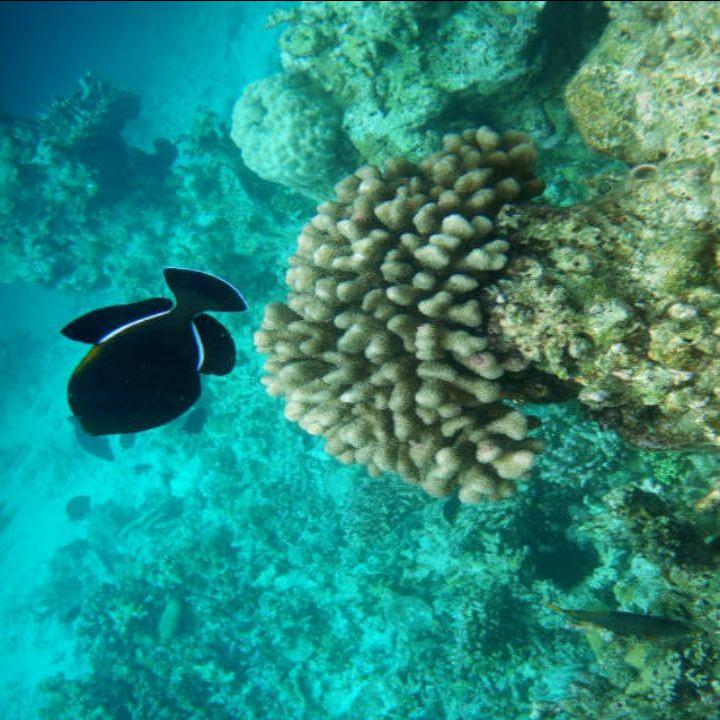Dead Coral: (251, 32, 716, 521)
